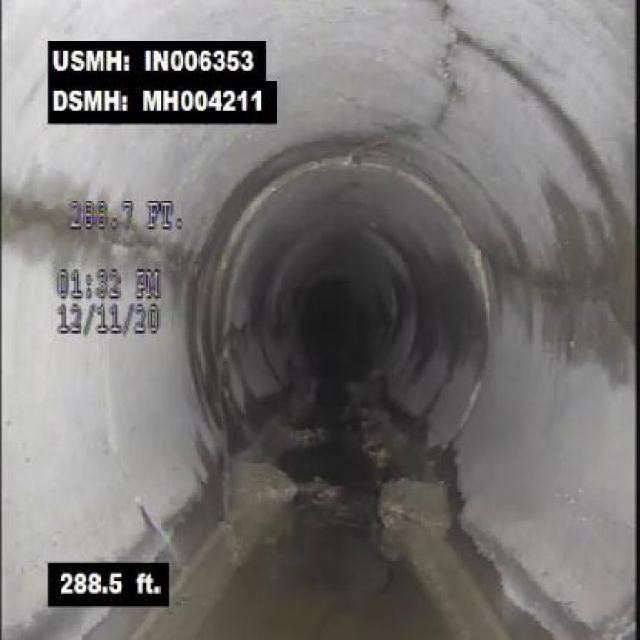Crack: (520, 237, 622, 349), (431, 1, 466, 117), (346, 123, 429, 159)
Debris: (217, 457, 454, 537)
Joint offset: (208, 157, 342, 254)
